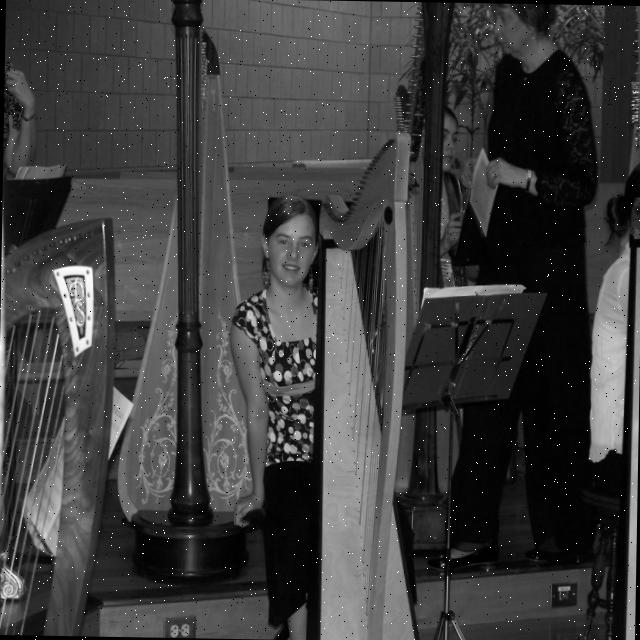harp: (114, 0, 259, 591), (308, 123, 433, 640), (0, 198, 123, 636), (390, 1, 446, 306)
